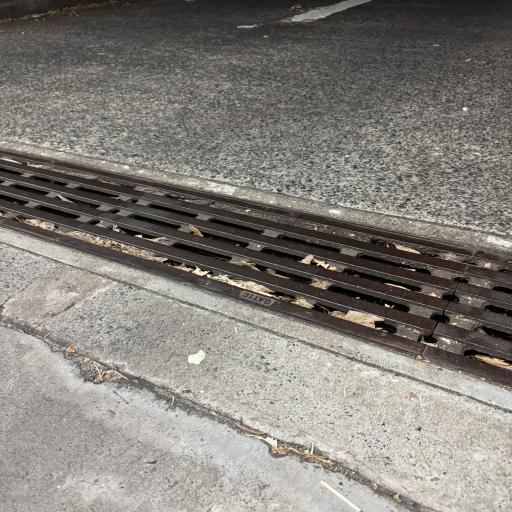gutter: (0, 150, 512, 385)
